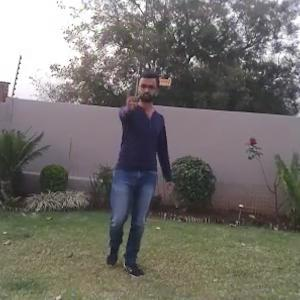takeoff-hand: (114, 81, 146, 117)
